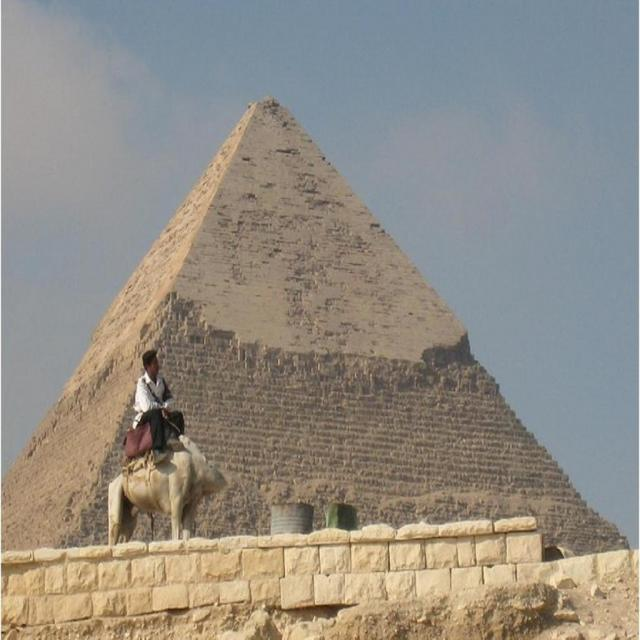nomask: (149, 355, 159, 374)
